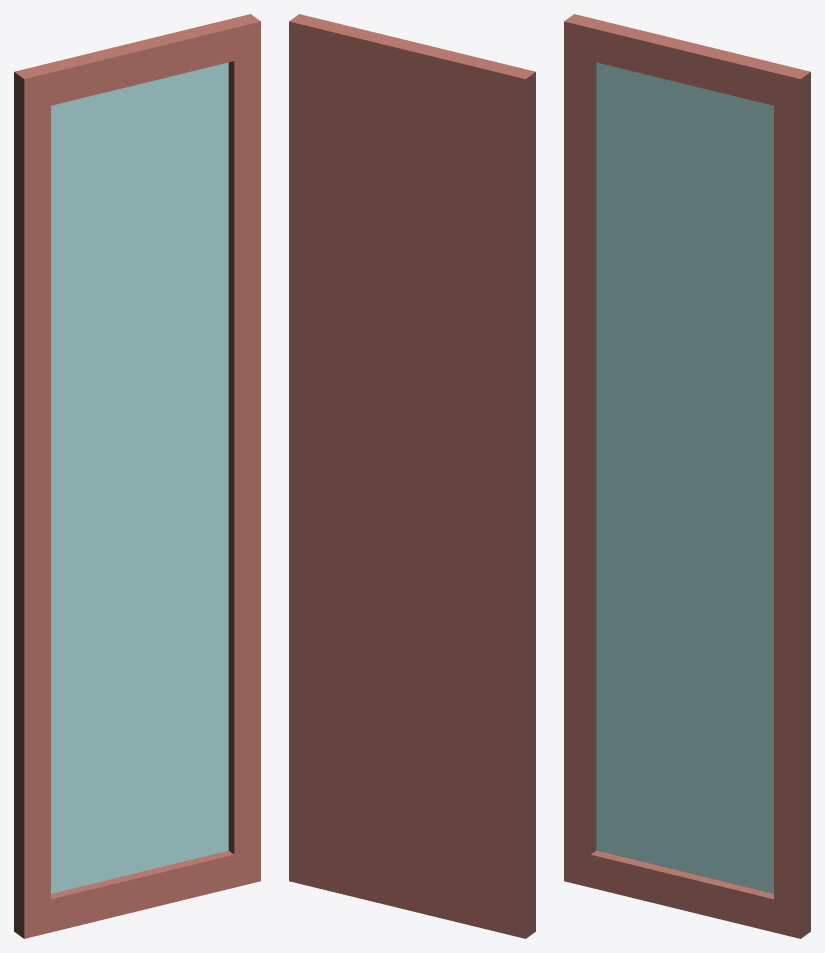
Rendered from Long Mirror.fbx.
The picture shows the model from 3 angles, left to right: view 1: azimuth 30°, elevation 25°; view 2: azimuth 150°, elevation 25°; view 3: azimuth 330°, elevation 25°; orthographic projection.
Visible parts, largest first — view 1: Long Mirror; view 2: Long Mirror; view 3: Long Mirror.
Boxes of the visible parts, <box> form: Long Mirror: <box>14,14,260,938</box>; Long Mirror: <box>289,14,535,938</box>; Long Mirror: <box>564,14,810,938</box>.
Bounding box in the file's own units: 133 × 462 × 9.93.
